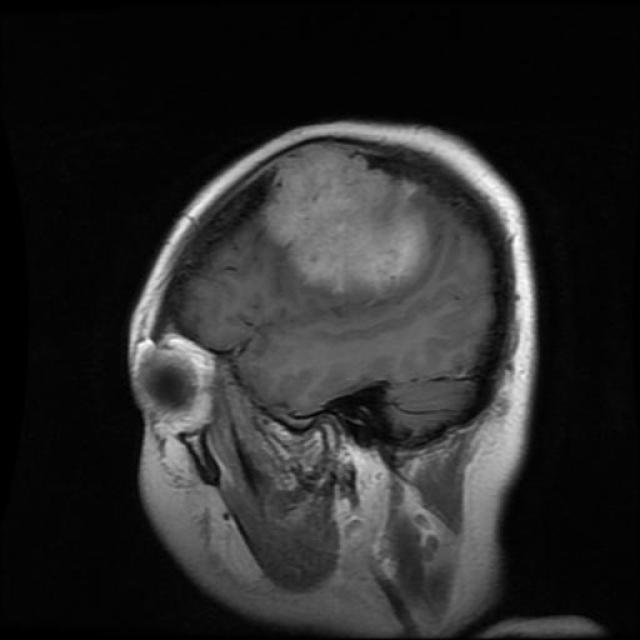meningioma: (265, 150, 450, 304)
